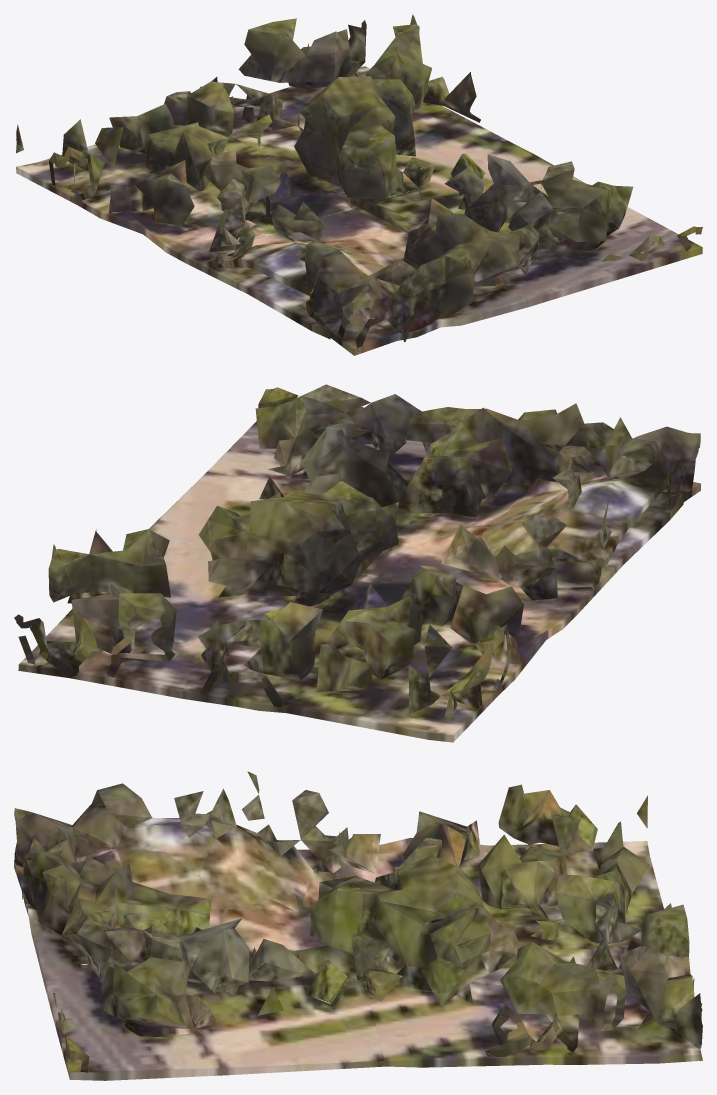
3 views of the same model, one above another, from view 1: azimuth 30°, elevation 25°; view 2: azimuth 150°, elevation 25°; view 3: azimuth 270°, elevation 25° (orthographic). The views are drawn at different scales.
Parts seen in each view (by area): view 1: Mesh_0; view 2: Mesh_0; view 3: Mesh_0.
Part boxes in pixels (x1,y1,x2,y2): Mesh_0: [16, 14, 702, 355]; Mesh_0: [14, 384, 700, 742]; Mesh_0: [14, 771, 702, 1080].
Size of the model in its own units: 134 by 31.94 by 165.
Materials: 2 (2 with a texture image).
